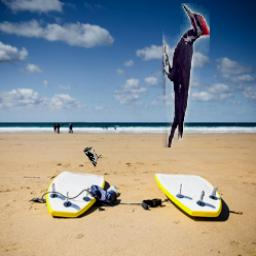Woodpecker: (162, 4, 210, 149), (83, 147, 102, 168)
